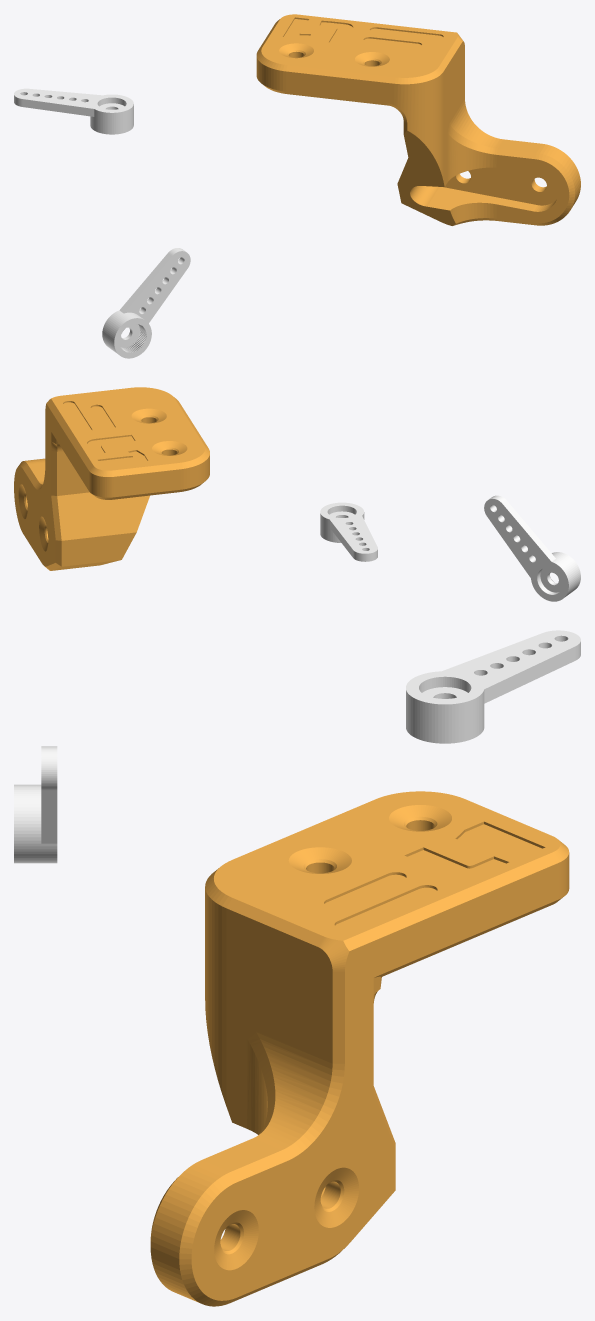
The model's file is left_front_leg.glb.
3 views of the same model, one above another, from view 1: azimuth 30°, elevation 25°; view 2: azimuth 150°, elevation 25°; view 3: azimuth 270°, elevation 25° (orthographic). The views are drawn at different scales.
Visible parts, largest first — view 1: femur_joint_l1, sg90_horn_5, sg90_horn_6; view 2: femur_joint_l1, sg90_horn_5, sg90_horn_6; view 3: femur_joint_l1, sg90_horn_6, sg90_horn_5.
Part boxes in pixels (x1,y1,x2,y2): femur_joint_l1: (256,14,580,225); sg90_horn_5: (102,248,190,358); sg90_horn_6: (14,88,133,134); femur_joint_l1: (14,387,209,570); sg90_horn_5: (484,495,580,601); sg90_horn_6: (320,502,377,561); femur_joint_l1: (150,791,569,1306); sg90_horn_6: (406,630,580,743); sg90_horn_5: (14,746,57,863).
Size of the model in its own units: 0.6573 by 0.2134 by 0.3486.
